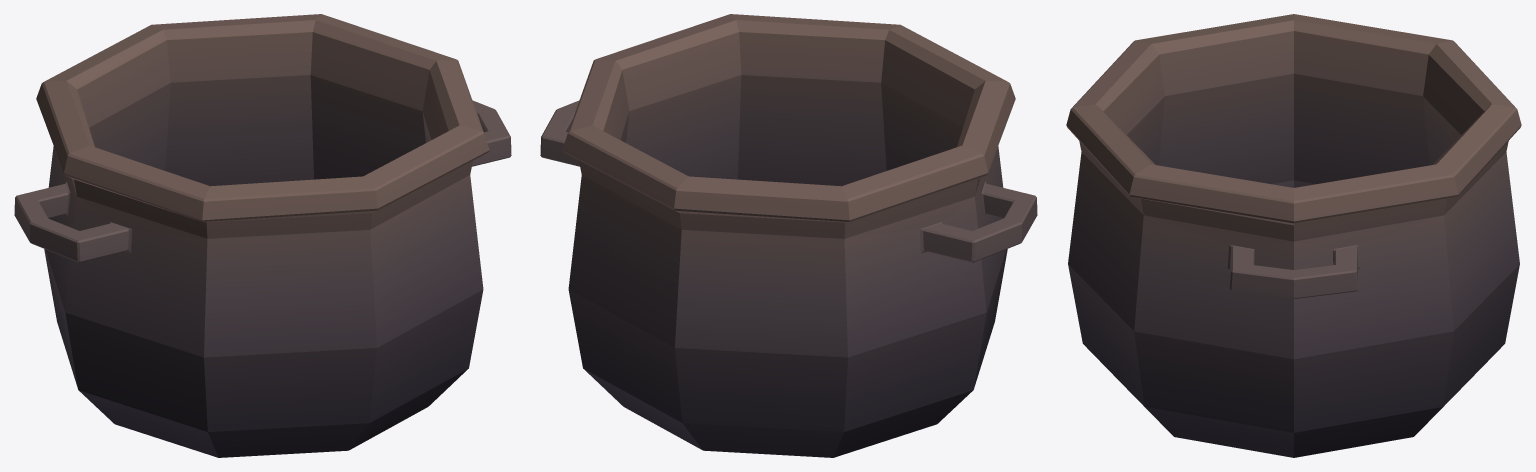
Rendered from SM_CookingPot.fbx.
The picture shows the model from 3 angles, left to right: view 1: azimuth 30°, elevation 25°; view 2: azimuth 150°, elevation 25°; view 3: azimuth 270°, elevation 25°; orthographic projection.
Parts seen in each view (by area): view 1: Cylinder.001; view 2: Cylinder.001; view 3: Cylinder.001.
Boxes of the visible parts, box(x1,y1,x2,y2) form: Cylinder.001: box(14, 14, 511, 457); Cylinder.001: box(540, 14, 1037, 457); Cylinder.001: box(1066, 14, 1521, 457).
Size of the model in its own units: 63.09 by 38.16 by 53.88.
